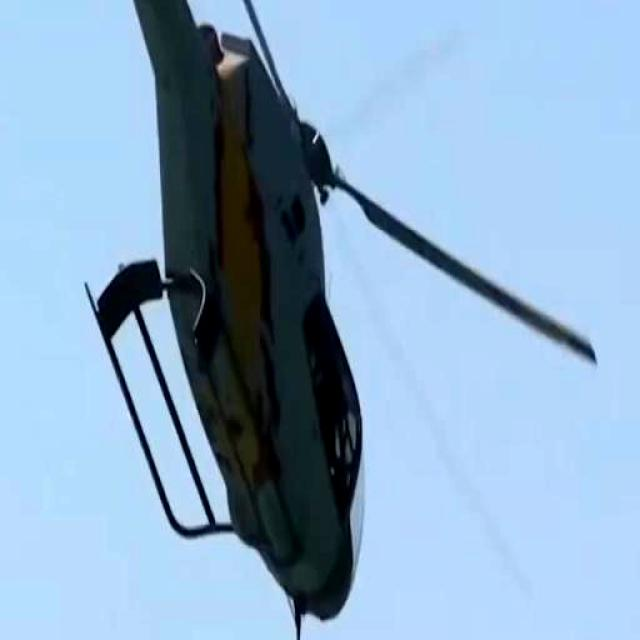drone: (0, 0, 424, 640)
